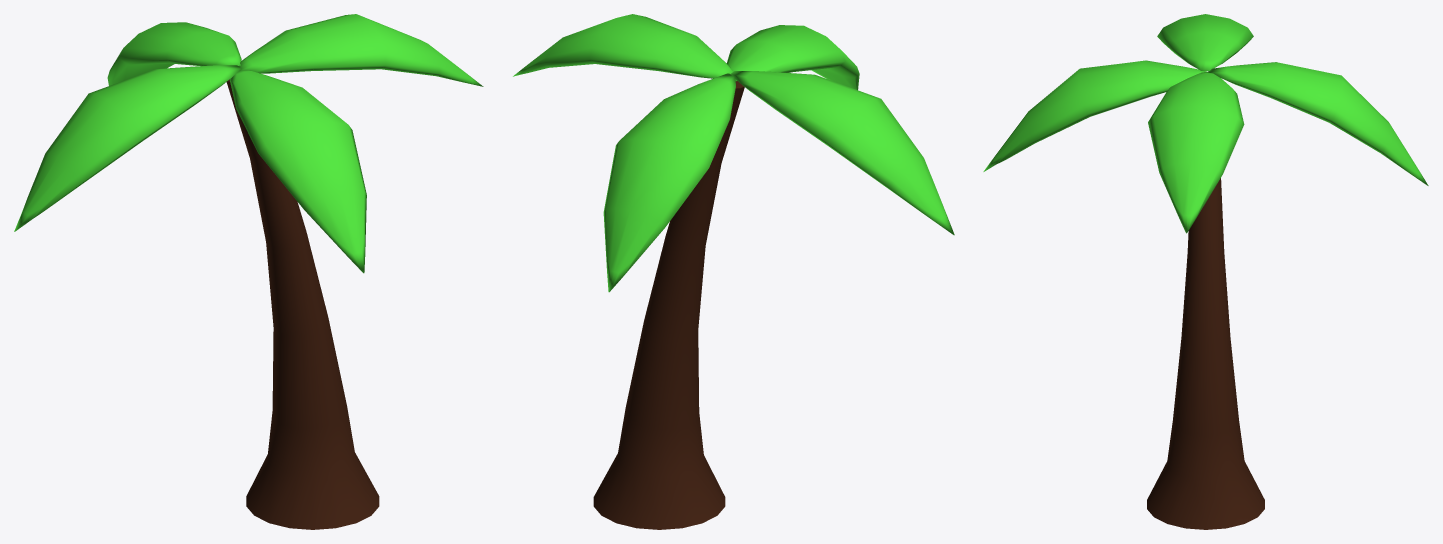
File: Palma.fbx
3 renders of one model, left to right at view 1: azimuth 30°, elevation 25°; view 2: azimuth 150°, elevation 25°; view 3: azimuth 270°, elevation 25°, orthographic. The views are drawn at different scales.
Parts seen in each view (by area): view 1: Palma; view 2: Palma; view 3: Palma.
Part boxes in pixels (x1=…): Palma: x1=14, y1=14, x2=483, y2=529; Palma: x1=513, y1=14, x2=954, y2=529; Palma: x1=983, y1=14, x2=1428, y2=529.
Size of the model in its own units: 284 by 280 by 269.
